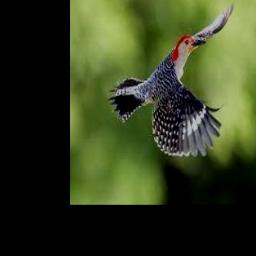Woodpecker: (109, 1, 234, 156)
